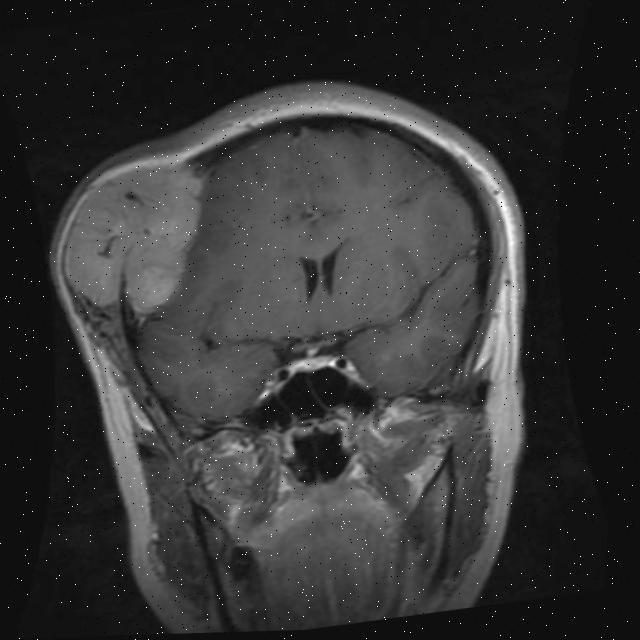Meningioma: (47, 153, 218, 322)
